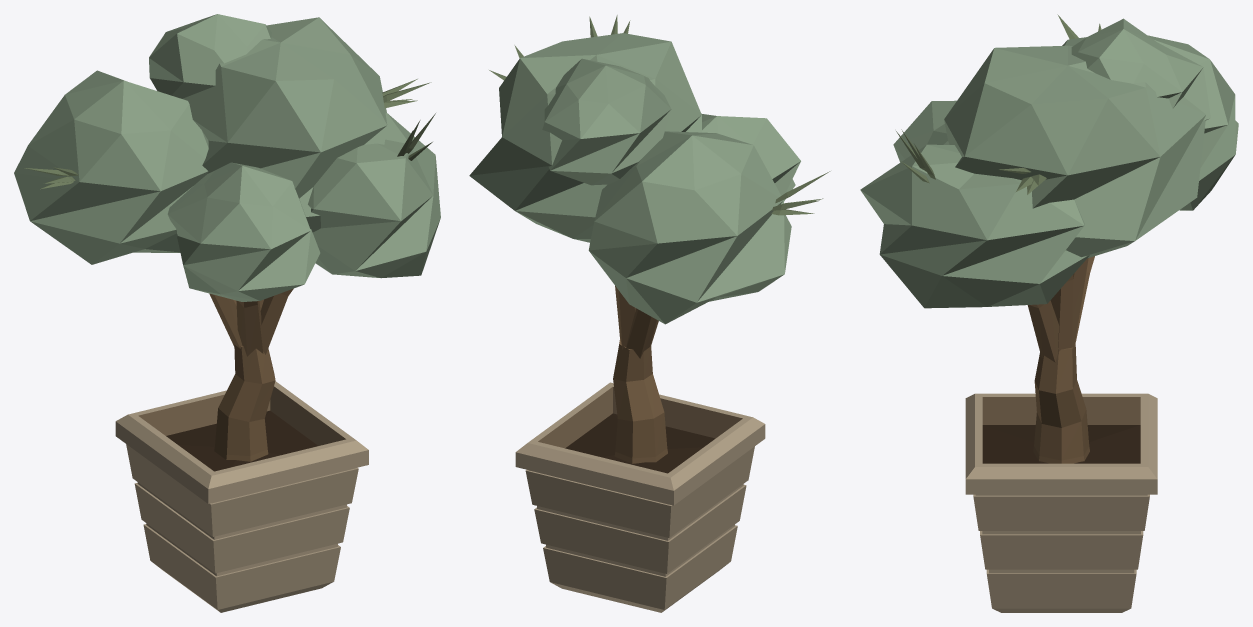
File: olive_tree_2.glb
3 renders of one model, left to right at view 1: azimuth 30°, elevation 25°; view 2: azimuth 150°, elevation 25°; view 3: azimuth 270°, elevation 25°, orthographic. The views are drawn at different scales.
Visible parts, largest first — view 1: mesh_0; view 2: mesh_0; view 3: mesh_0.
Boxes of the visible parts, x1,y1,x2,y2 form: mesh_0: (14, 14, 440, 612); mesh_0: (469, 15, 830, 612); mesh_0: (860, 14, 1238, 612).
Size of the model in its own units: 1.42 by 2 by 1.22.
